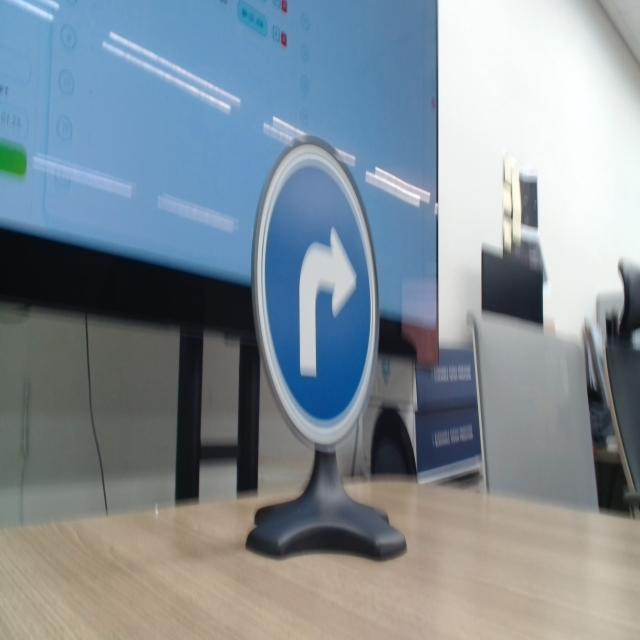right_dierection: (233, 123, 385, 444)
